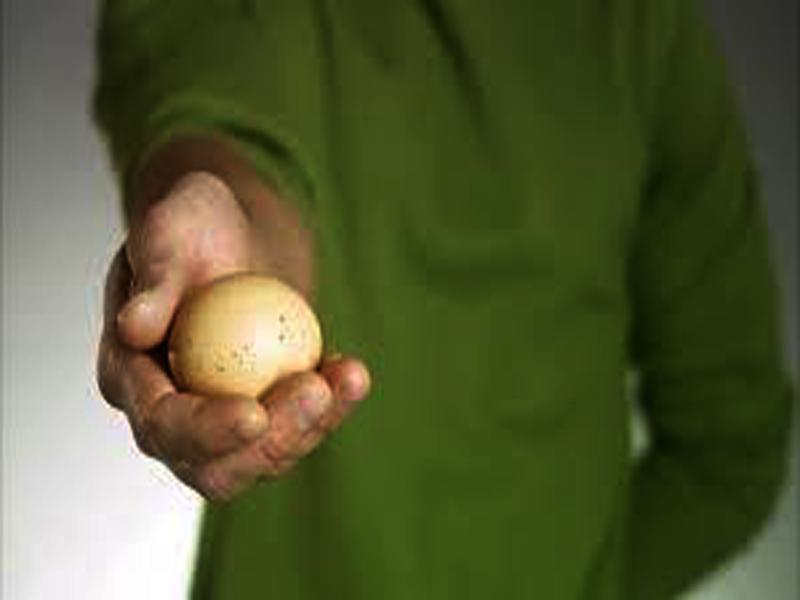Eggs: (168, 275, 323, 400)
